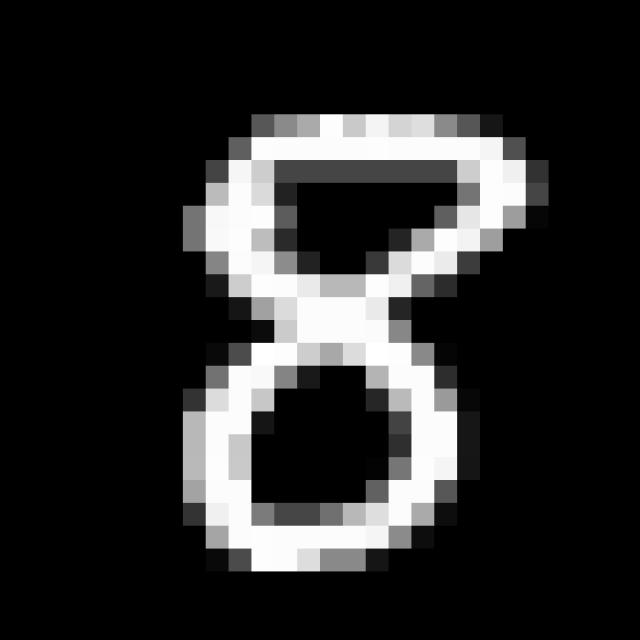eight -8-: (178, 105, 538, 583)
